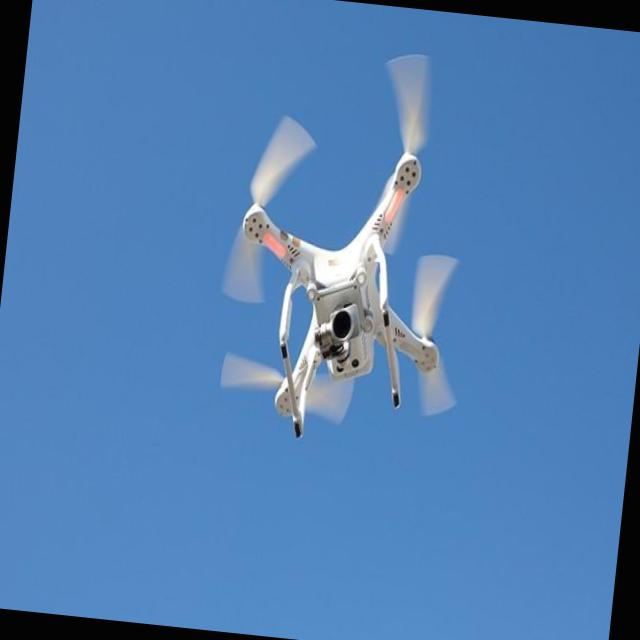drone: (210, 31, 497, 459)
